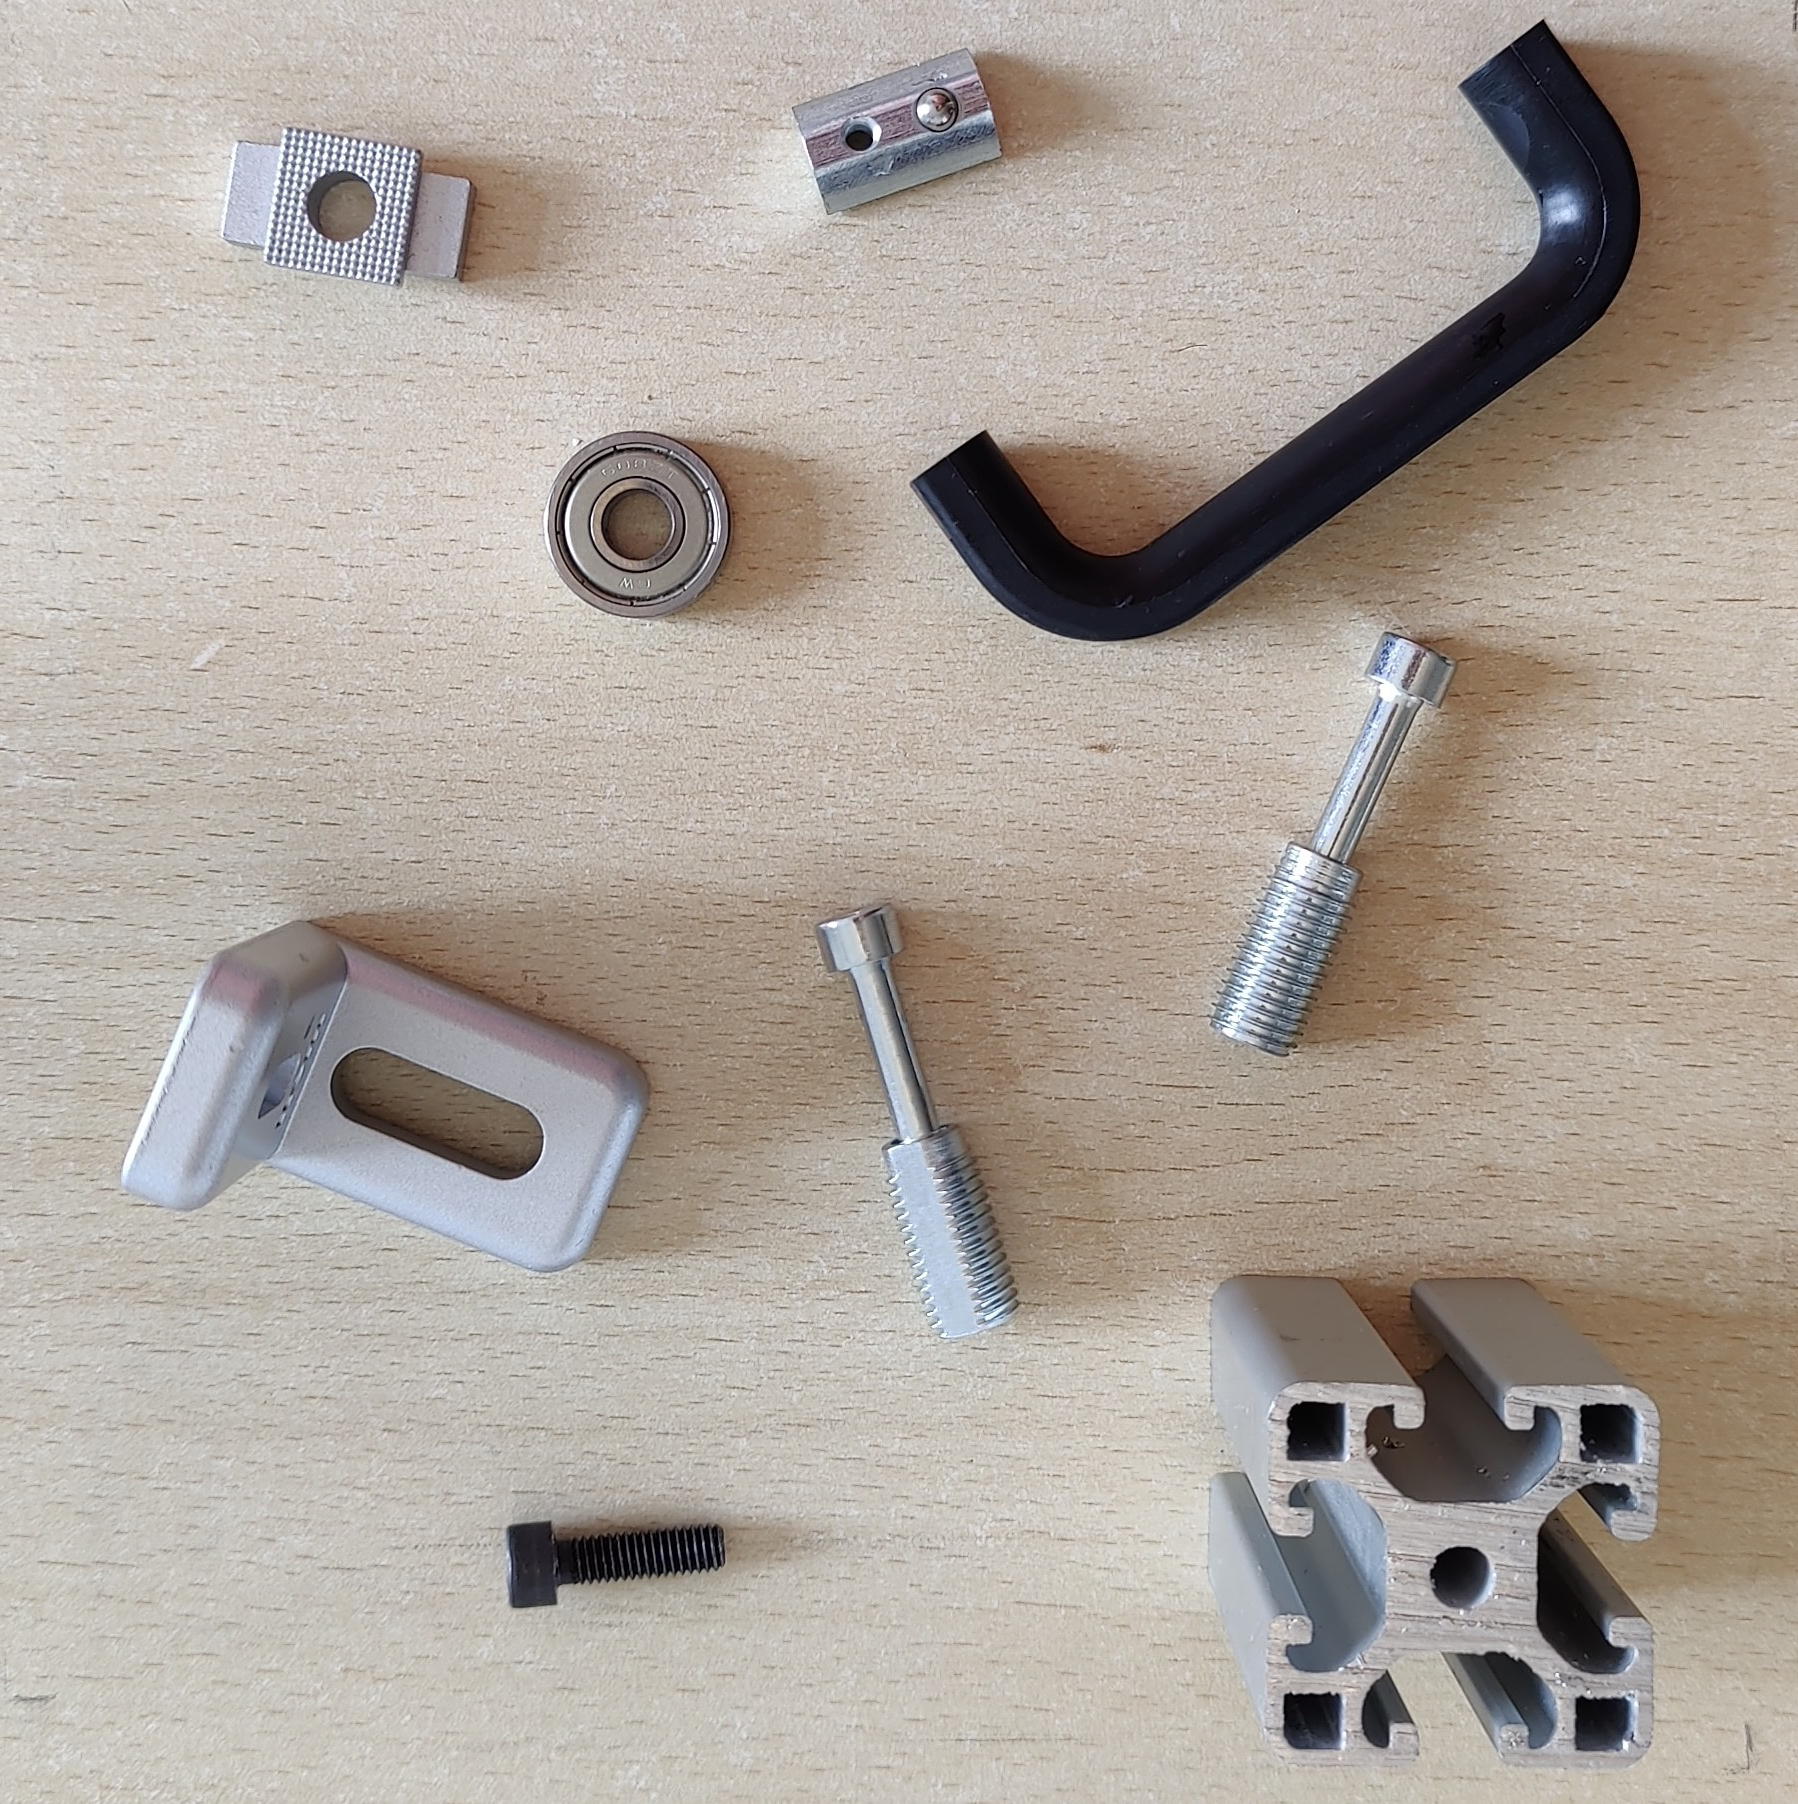Aluminium Extension: (1204, 1267, 1666, 1774)
Ball Bearing: (542, 430, 734, 622)
Multiwinkel: (119, 915, 652, 1276)
Pull Handle: (911, 15, 1647, 644)
Shoulder Socket Head Cap Screw: (1204, 627, 1464, 1057), (815, 895, 1024, 1341)
Socket Head Cap Screw: (496, 1514, 729, 1611)
T Nut Square: (217, 122, 477, 291)
T Spring Nut: (789, 44, 1004, 219)
